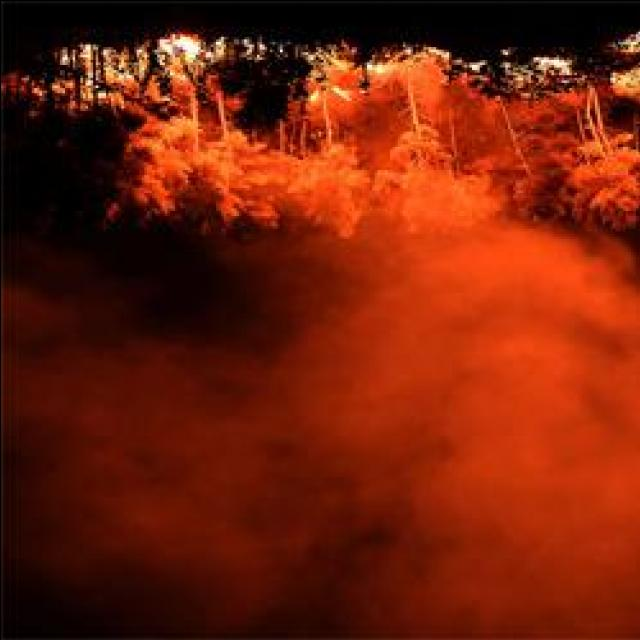smoke: (358, 224, 640, 636), (34, 329, 410, 606)
